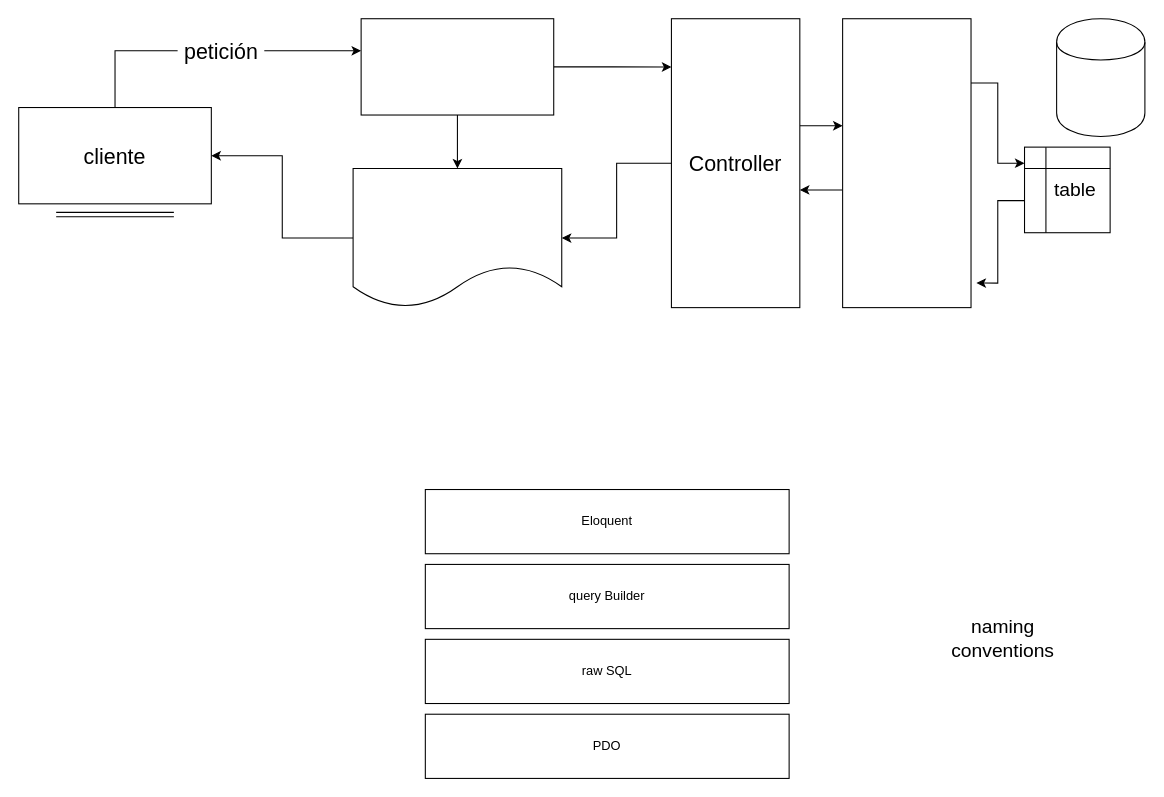
Some shapes in this 1164 by 797 pixel diagram are drawn without their labels. Each missing label, with the centre of its shape:
"enrutador" belongs at [457,66].
"Model" belongs at [906,163].
"vista" belongs at [457,237].
